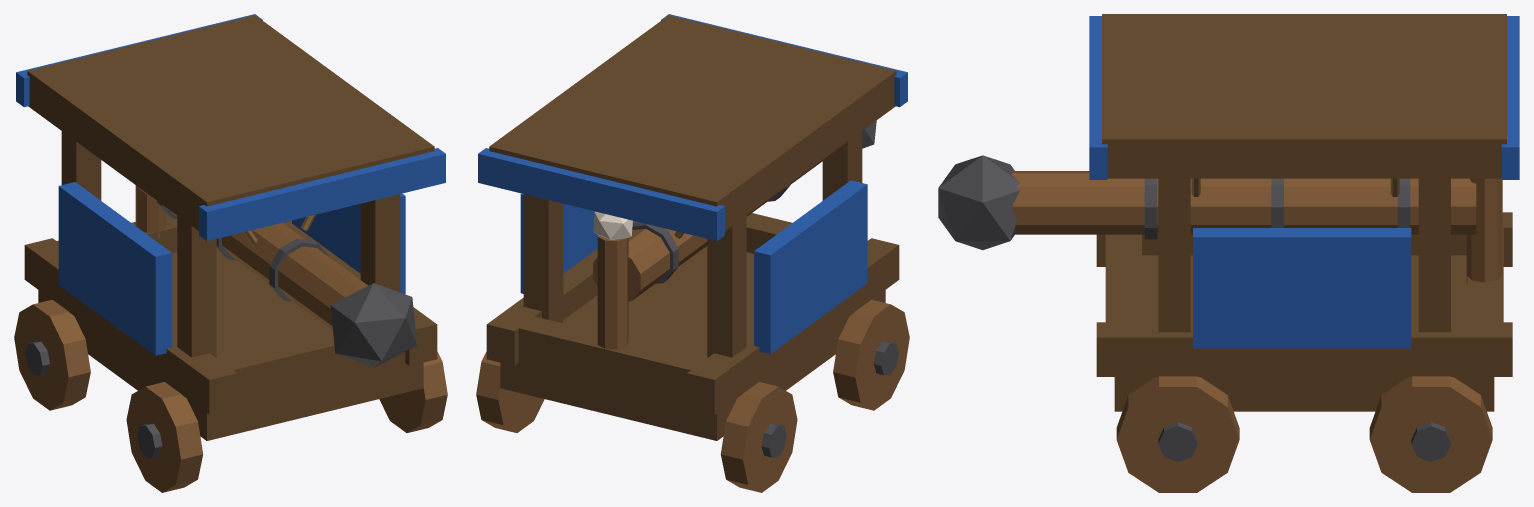
Rendered from battering_ram.glb.
3 views of the same model, side by side, from view 1: azimuth 30°, elevation 25°; view 2: azimuth 150°, elevation 25°; view 3: azimuth 270°, elevation 25° (orthographic). The views are drawn at different scales.
Parts seen in each view (by area): view 1: 24_Tetto_Principale, 01_Telaio_Base, 50_Pelle_Lato_Sinistro, 25_Tetto_Bordo_Anteriore, 02_Trave_Laterale_Sinistra, 04_Traversa_Anteriore, 30_Trave_Ariete, 12_Ruota_Posteriore_Sinistra, 10_Ruota_Anteriore_Sinistra, 40_Testa_Ariete_Metallo, 20_Pilastro_Anteriore_Sinistro, 21_Pilastro_Anteriore_Destro (+10 smaller); view 2: 24_Tetto_Principale, 01_Telaio_Base, 50_Pelle_Lato_Sinistro, 05_Traversa_Posteriore, 26_Tetto_Bordo_Posteriore, 02_Trave_Laterale_Sinistra, 10_Ruota_Anteriore_Sinistra, 12_Ruota_Posteriore_Sinistra, 22_Pilastro_Posteriore_Sinistro, 23_Pilastro_Posteriore_Destro, 55_Totem_Posteriore, 30_Trave_Ariete (+10 smaller); view 3: 24_Tetto_Principale, 51_Pelle_Lato_Destro, 30_Trave_Ariete, 03_Trave_Laterale_Destra, 11_Ruota_Anteriore_Destra, 13_Ruota_Posteriore_Destra, 01_Telaio_Base, 40_Testa_Ariete_Metallo, 21_Pilastro_Anteriore_Destro, 23_Pilastro_Posteriore_Destro, 04_Traversa_Anteriore, 55_Totem_Posteriore (+9 smaller).
Part boxes in pixels (x1,y1,x2,y2): 24_Tetto_Principale: (27, 15, 434, 230); 01_Telaio_Base: (38, 248, 423, 440); 50_Pelle_Lato_Sinistro: (58, 182, 172, 355); 25_Tetto_Bordo_Anteriore: (199, 148, 445, 240); 02_Trave_Laterale_Sinistra: (24, 238, 236, 414); 04_Traversa_Anteriore: (189, 310, 432, 411); 30_Trave_Ariete: (137, 186, 367, 330); 12_Ruota_Posteriore_Sinistra: (14, 299, 90, 410); 10_Ruota_Anteriore_Sinistra: (126, 382, 203, 492); 40_Testa_Ariete_Metallo: (330, 283, 416, 367); 20_Pilastro_Anteriore_Sinistro: (177, 216, 216, 357); 21_Pilastro_Anteriore_Destro: (360, 194, 400, 292); 24_Tetto_Principale: (489, 15, 896, 230); 01_Telaio_Base: (500, 246, 885, 440); 50_Pelle_Lato_Sinistro: (754, 180, 867, 353); 05_Traversa_Posteriore: (491, 310, 734, 404); 26_Tetto_Bordo_Posteriore: (478, 148, 724, 240); 02_Trave_Laterale_Sinistra: (687, 238, 899, 414); 10_Ruota_Anteriore_Sinistra: (833, 299, 909, 410); 12_Ruota_Posteriore_Sinistra: (720, 382, 797, 492); 22_Pilastro_Posteriore_Sinistro: (707, 216, 746, 357); 23_Pilastro_Posteriore_Destro: (523, 194, 563, 323); 55_Totem_Posteriore: (597, 235, 628, 349); 30_Trave_Ariete: (593, 160, 822, 301); 24_Tetto_Principale: (1102, 14, 1506, 178); 51_Pelle_Lato_Destro: (1193, 228, 1411, 348); 30_Trave_Ariete: (1011, 171, 1476, 234); 03_Trave_Laterale_Destra: (1096, 322, 1512, 376); 11_Ruota_Anteriore_Destra: (1116, 376, 1239, 492); 13_Ruota_Posteriore_Destra: (1369, 376, 1492, 492); 01_Telaio_Base: (1114, 255, 1494, 411); 40_Testa_Ariete_Metallo: (938, 155, 1019, 250); 21_Pilastro_Anteriore_Destro: (1158, 178, 1190, 332); 23_Pilastro_Posteriore_Destro: (1418, 178, 1450, 332); 04_Traversa_Anteriore: (1105, 234, 1141, 371); 55_Totem_Posteriore: (1466, 178, 1502, 283).
Bounding box in the file's own units: 2.03 × 2.09 × 3.22.
